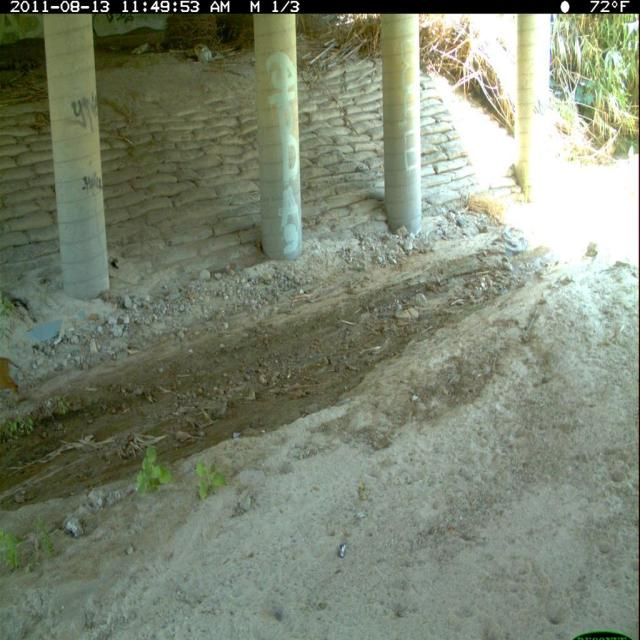bobcat: (1, 352, 24, 417)
